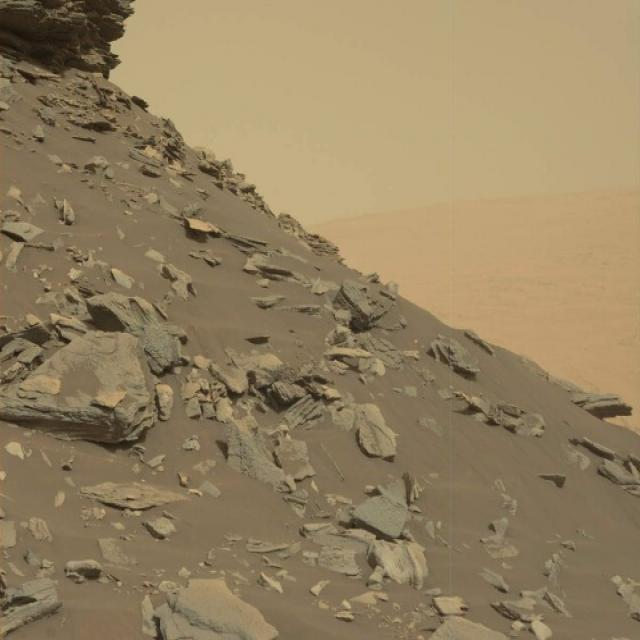rock: (0, 330, 158, 446), (0, 0, 134, 77), (158, 573, 282, 640), (82, 294, 182, 376), (332, 274, 391, 328)
